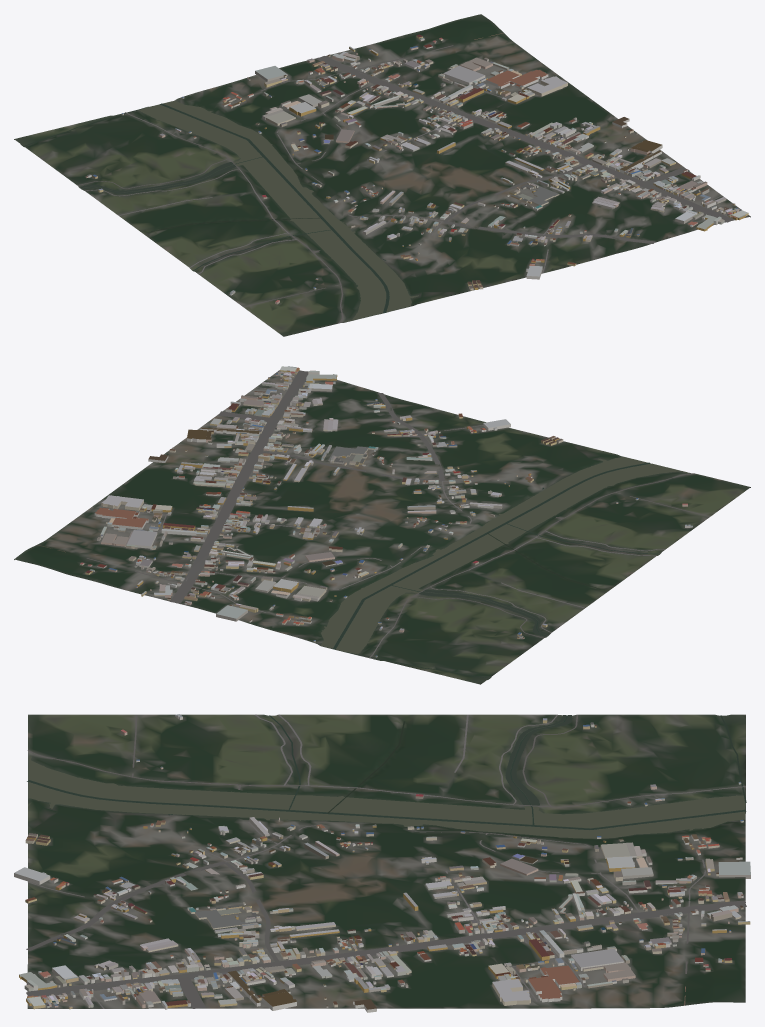
3 views of the same model, one above another, from view 1: azimuth 30°, elevation 25°; view 2: azimuth 150°, elevation 25°; view 3: azimuth 270°, elevation 25° (orthographic). The views are drawn at different scales.
Visible parts, largest first — view 1: ground, buildings, water, roads; view 2: ground, buildings, water, roads; view 3: ground, buildings, water, roads.
Part boxes in pixels (left/top/right/bottom): ground: left=14, top=14, right=750, bottom=336; buildings: left=85, top=34, right=748, bottom=304; water: left=23, top=100, right=418, bottom=321; roads: left=77, top=33, right=734, bottom=323; ground: left=14, top=370, right=750, bottom=684; buildings: left=80, top=366, right=692, bottom=657; water: left=320, top=456, right=687, bottom=678; roads: left=38, top=370, right=709, bottom=657; ground: left=27, top=714, right=745, bottom=1008; buildings: left=14, top=714, right=750, bottom=1012; water: left=27, top=715, right=746, bottom=838; roads: left=26, top=714, right=746, bottom=1008.
Size of the model in its own units: 1418 by 38.8 by 1438.
